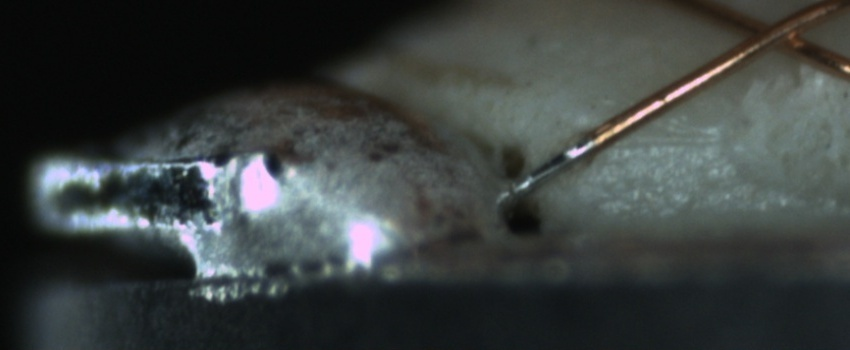CL: (724, 4, 824, 63)
DL: (605, 114, 724, 168)
TS: (509, 138, 596, 199)
TTCW: (515, 120, 610, 197)
